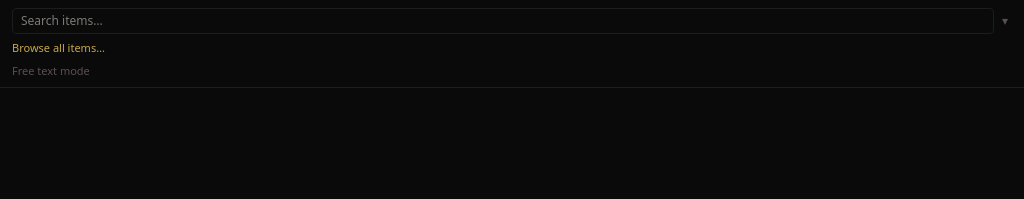
Test case: GearSlot › typing ≥1 char shows matching results with item name and base type
Type "Iron" into the dropdown with placeholder "Search items…" at (503, 21), box [12,8,994,34]
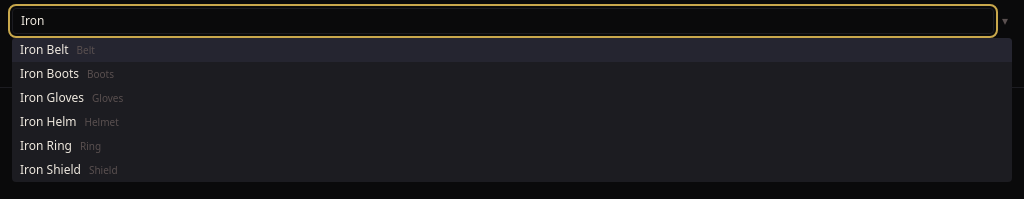
Expected: the text "Iron Helm" is shown, [20,113,77,130]
Expected: the text "Helmet" is shown, [85,115,119,129]
